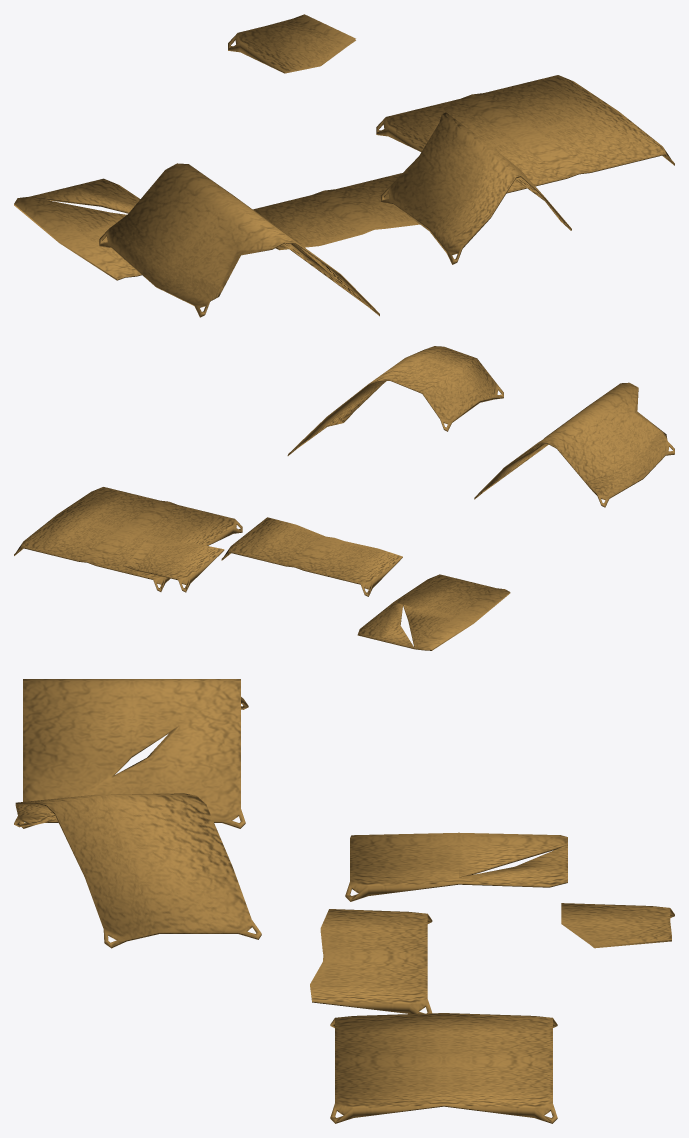
File: DamagedTarps_Tan.obj
3 views of the same model, one above another, from view 1: azimuth 30°, elevation 25°; view 2: azimuth 150°, elevation 25°; view 3: azimuth 270°, elevation 25° (orthographic). The views are drawn at different scales.
Parts seen in each view (by area): view 1: Plane.012_Material.187, Plane.017_Material.187, Plane.011_Material.187, Plane.015_Material.187, Plane.014_Material.187, Plane.013_Material.187; view 2: Plane.012_Material.187, Plane.017_Material.187, Plane.011_Material.187, Plane.015_Material.187, Plane.014_Material.187, Plane.013_Material.187; view 3: Plane.017_Material.187, Plane.011_Material.187, Plane.012_Material.187, Plane.015_Material.187, Plane.014_Material.187, Plane.013_Material.187.
Part boxes in pixels (x1,y1,x2,y2): Plane.012_Material.187: (376,75,674,193); Plane.017_Material.187: (99,163,379,317); Plane.011_Material.187: (381,112,571,264); Plane.015_Material.187: (14,178,141,280); Plane.014_Material.187: (253,173,419,250); Plane.013_Material.187: (228,14,355,73); Plane.012_Material.187: (14,487,242,591); Plane.017_Material.187: (474,382,674,507); Plane.011_Material.187: (287,346,503,455); Plane.015_Material.187: (357,574,510,650); Plane.014_Material.187: (221,517,402,596); Plane.013_Material.187: (126,542,224,592); Plane.017_Material.187: (19,679,248,828); Plane.011_Material.187: (14,793,261,948); Plane.012_Material.187: (330,1013,557,1123); Plane.015_Material.187: (345,832,567,901); Plane.014_Material.187: (310,909,432,1013); Plane.013_Material.187: (561,903,674,948).
Size of the model in its own units: 6.69 by 1.81 by 6.06.
